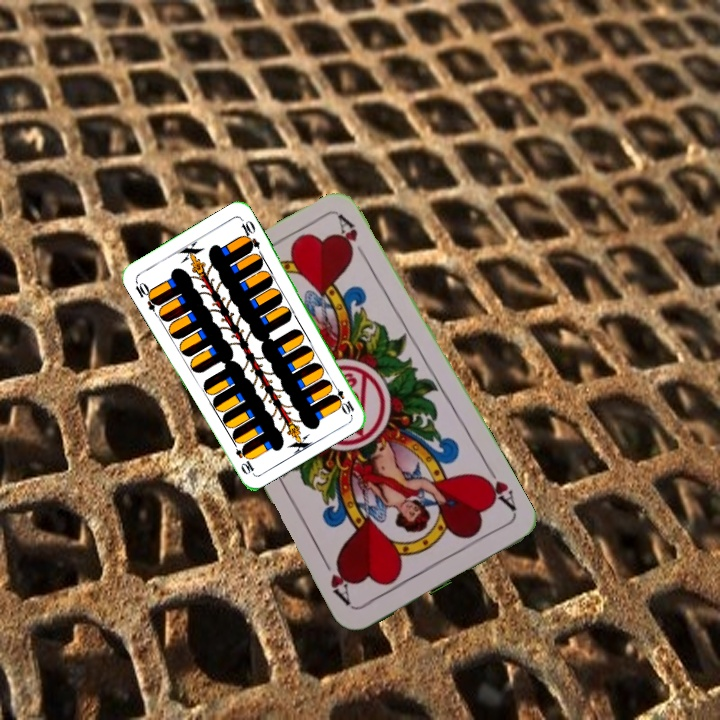E10: (131, 277, 162, 314), (327, 379, 357, 417)
HA: (475, 464, 519, 518)
